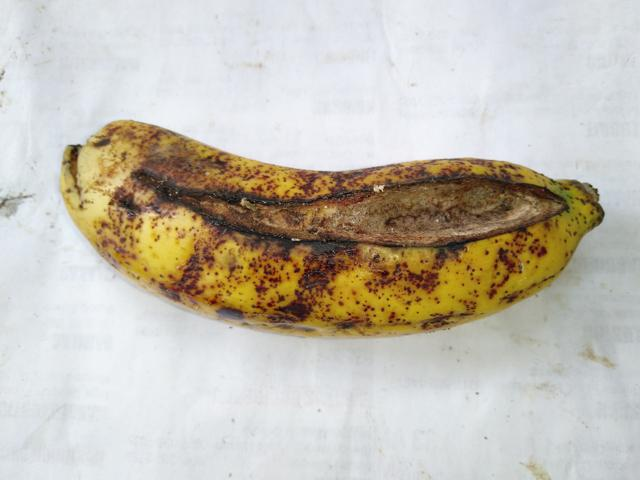rotten: (144, 110, 585, 273)
